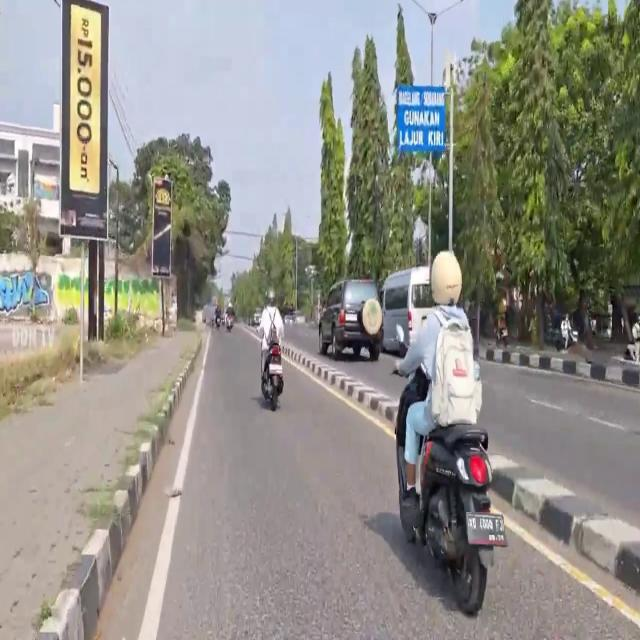WithHelmet: (396, 250, 482, 523), (256, 288, 286, 388), (225, 300, 235, 325), (214, 301, 221, 322)
